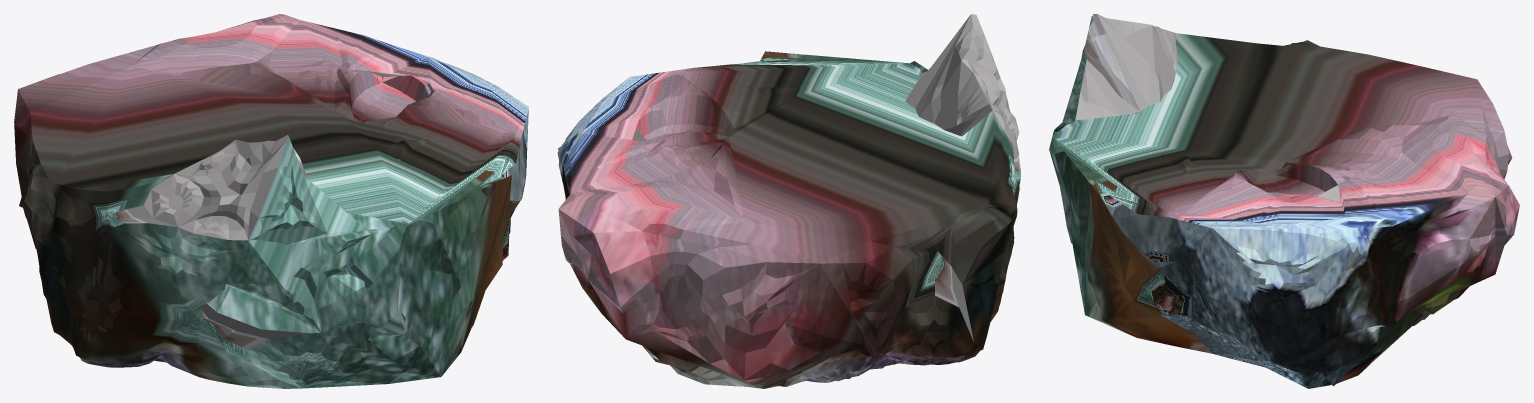
Rendered from island.glb.
3 views of the same model, side by side, from view 1: azimuth 30°, elevation 25°; view 2: azimuth 150°, elevation 25°; view 3: azimuth 270°, elevation 25° (orthographic). The views are drawn at different scales.
Parts seen in each view (by area): view 1: Icosphere; view 2: Icosphere; view 3: Icosphere.
Part boxes in pixels (bbox=[...]): Icosphere: bbox=[14, 14, 528, 388]; Icosphere: bbox=[557, 14, 1020, 388]; Icosphere: bbox=[1049, 14, 1519, 388].
Bounding box in the file's own units: 6.77 × 4.7 × 6.8.
Materials: 1 (1 with a texture image).
